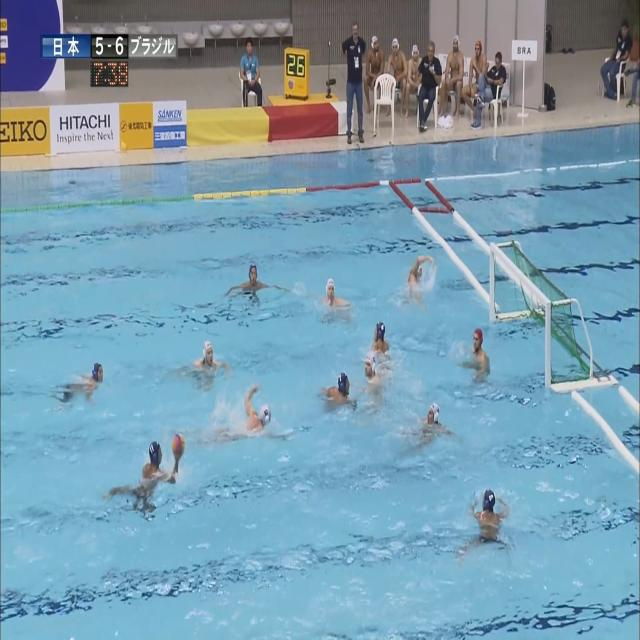ball: (172, 434, 185, 456)
